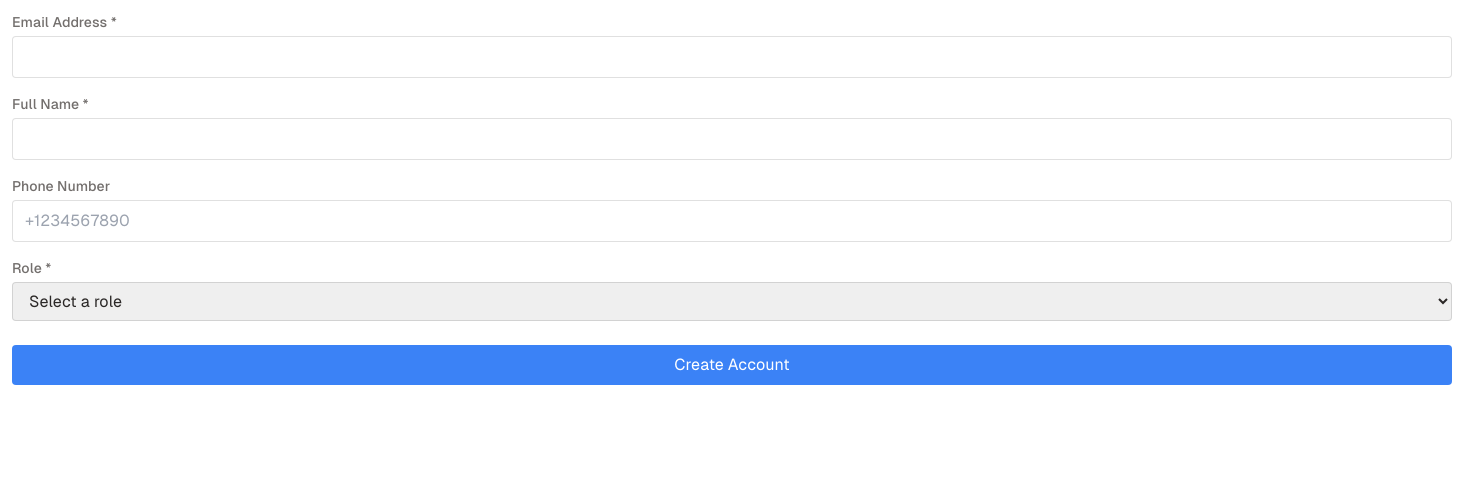
Test: CreateAccountForm › Form Submission › disables submit button while submitting
Fill form
Type "test@example.com" into the field labelled "Email Address *" at (732, 57), box x1=12 y1=36 x2=1452 y2=78
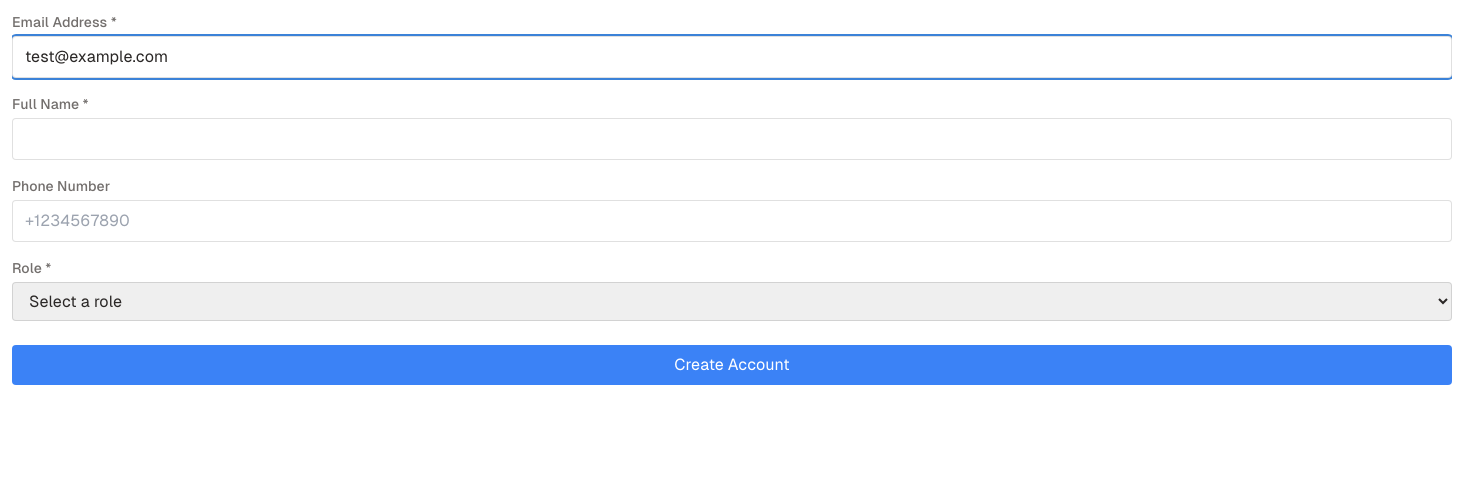
Type "Test User" into the field labelled "Full Name *" at (732, 139), box x1=12 y1=118 x2=1452 y2=160
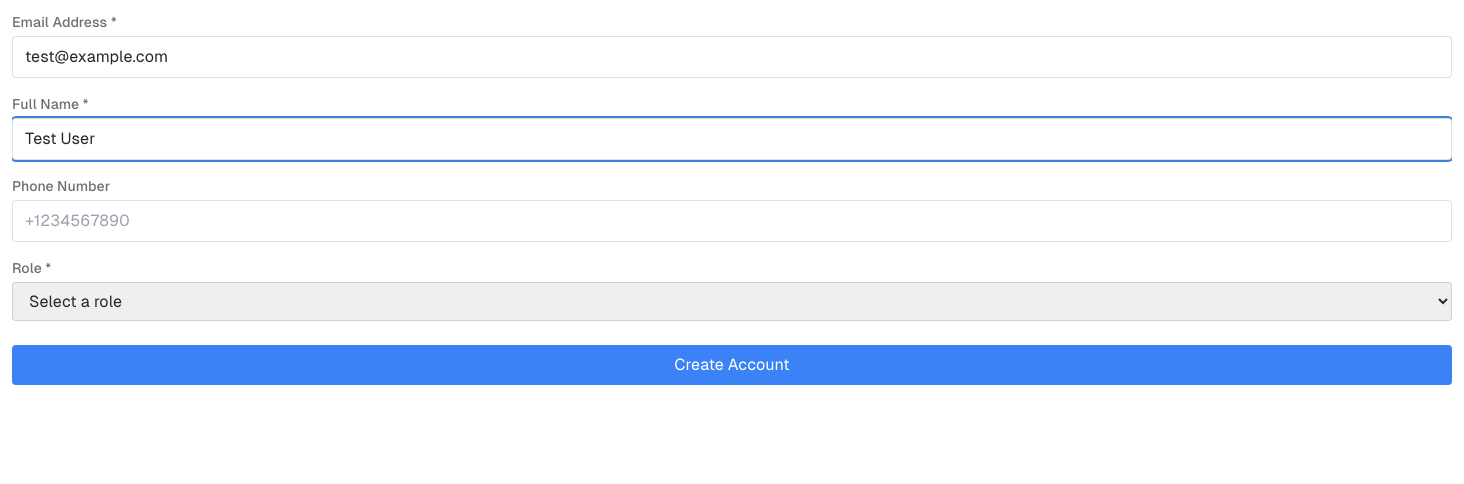
Select "User" in the dropdown labelled "Role *" at (732, 302), box x1=12 y1=282 x2=1452 y2=321
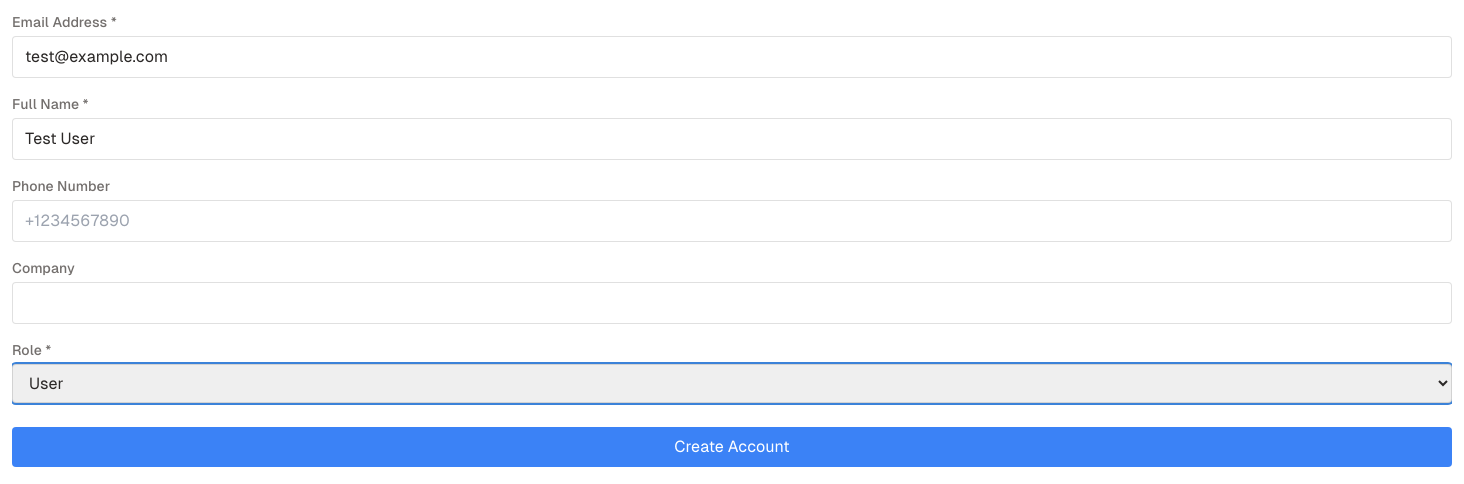
Submit form
Click the button "Create Account" at (732, 447), box x1=12 y1=427 x2=1452 y2=467
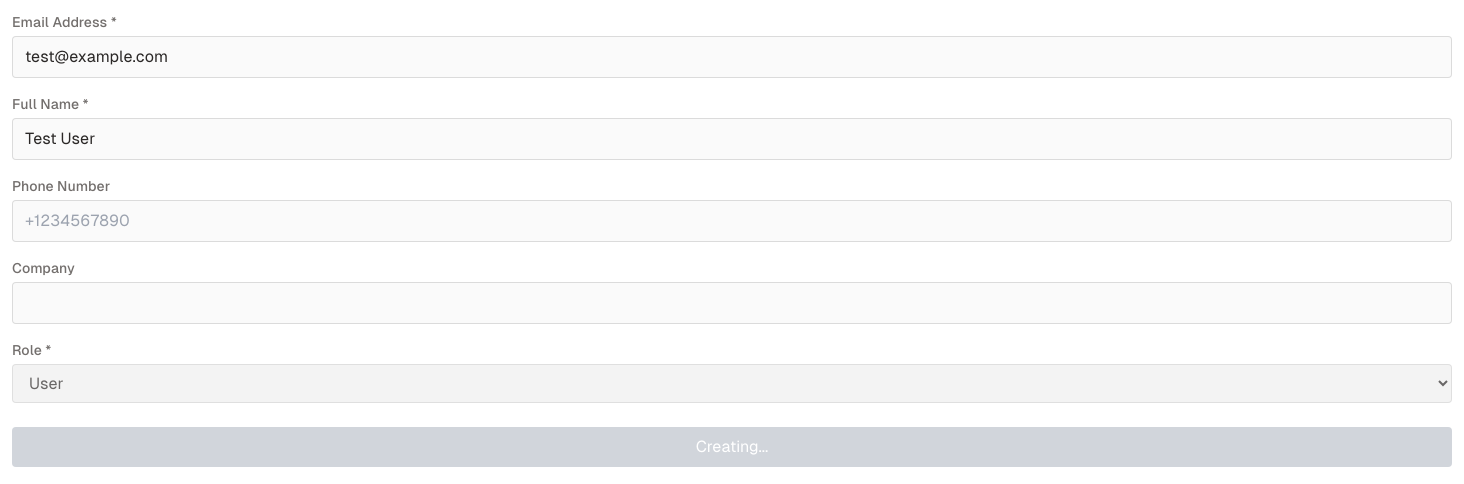
Result: the button named "create account" is disabled at x1=12 y1=427 x2=1452 y2=467
